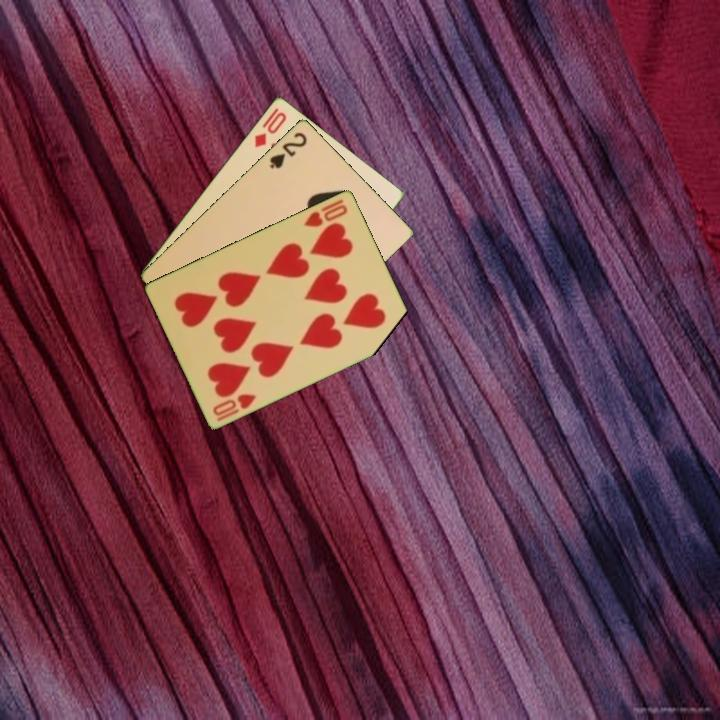10d: (251, 104, 289, 150)
10h: (300, 195, 351, 230), (209, 390, 259, 424)
2s: (266, 128, 310, 171)
